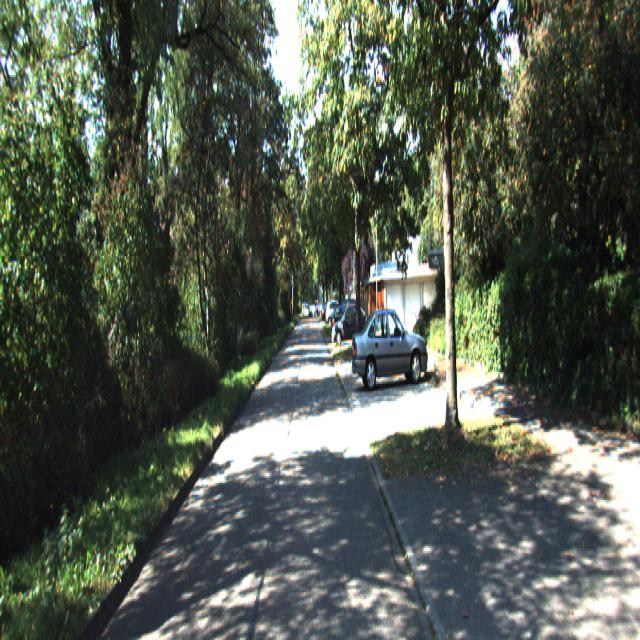Car: (351, 302, 428, 389), (333, 301, 367, 344)
